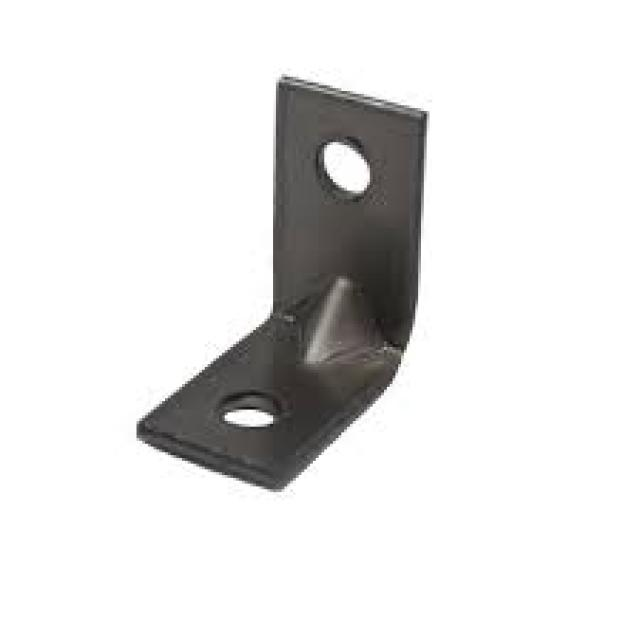holes: (313, 134, 370, 199), (216, 390, 292, 438)
